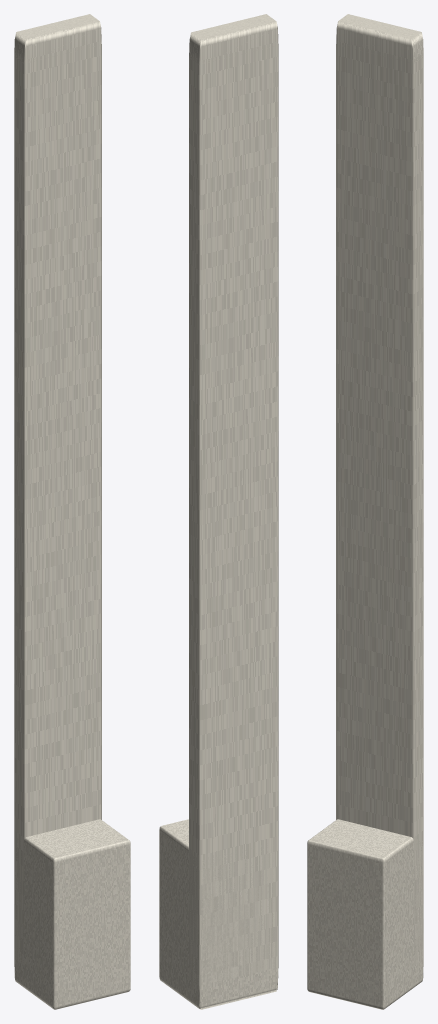
Rendered from reveal.glb.
The picture shows the model from 3 angles, left to right: view 1: azimuth 30°, elevation 25°; view 2: azimuth 210°, elevation 25°; view 3: azimuth 330°, elevation 25°; orthographic projection. The views are drawn at different scales.
Parts seen in each view (by area): view 1: web, return; view 2: web, return; view 3: web, return.
Part boxes in pixels (x1,y1,x2,y2): web: [14, 14, 101, 972]; return: [14, 819, 130, 1009]; web: [189, 14, 278, 1009]; return: [159, 819, 277, 1008]; web: [336, 14, 423, 972]; return: [307, 819, 423, 1009].
Size of the model in its own units: 0.18 by 2.1 by 0.16.
Materials: 1 (1 with a texture image).
